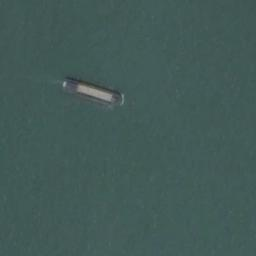boat: (62, 78, 122, 108)
